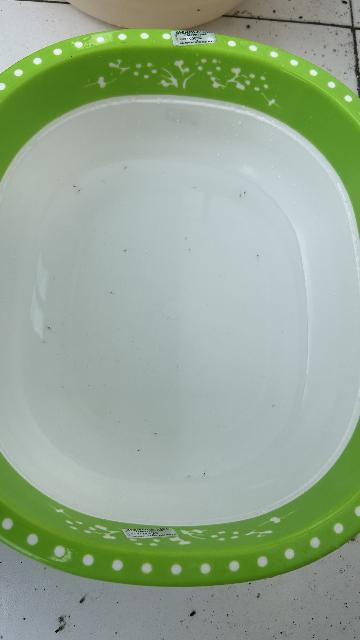benur: (46, 324, 53, 332), (77, 186, 83, 194), (256, 252, 261, 259), (202, 469, 207, 476), (102, 179, 107, 185), (243, 189, 247, 196), (123, 165, 128, 170), (52, 275, 57, 280), (193, 186, 199, 190), (108, 291, 114, 295), (136, 448, 142, 452), (72, 185, 79, 188), (41, 340, 48, 343), (186, 473, 191, 477), (239, 192, 242, 198), (188, 247, 191, 253), (184, 236, 187, 241), (123, 249, 128, 252), (153, 431, 158, 434), (272, 403, 275, 407)
